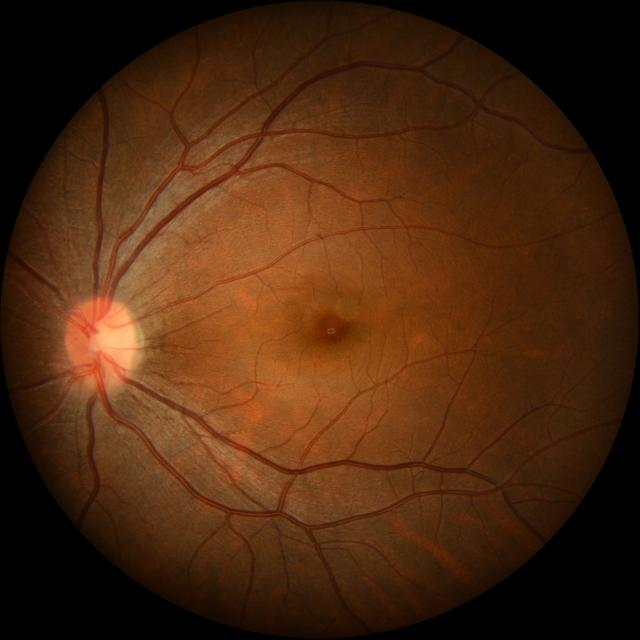OC: (90, 322, 117, 354)
OD: (66, 296, 138, 385)
